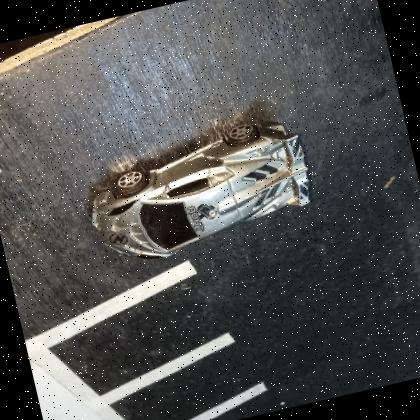Car: (75, 106, 326, 275)
